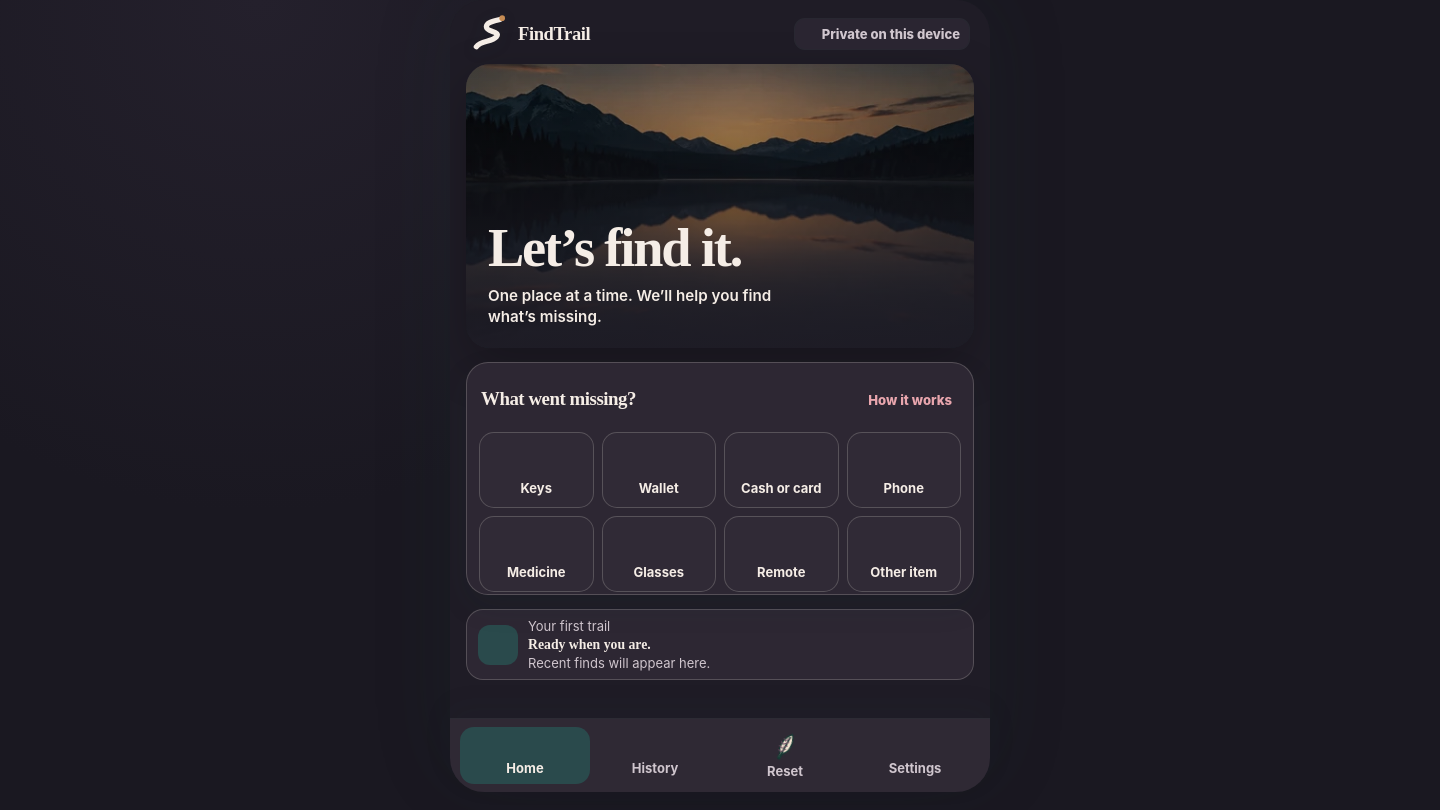
Test case: FindTrail app › accepts a custom item name
Click the button "Other item" at (904, 554), box [846,516,961,592]
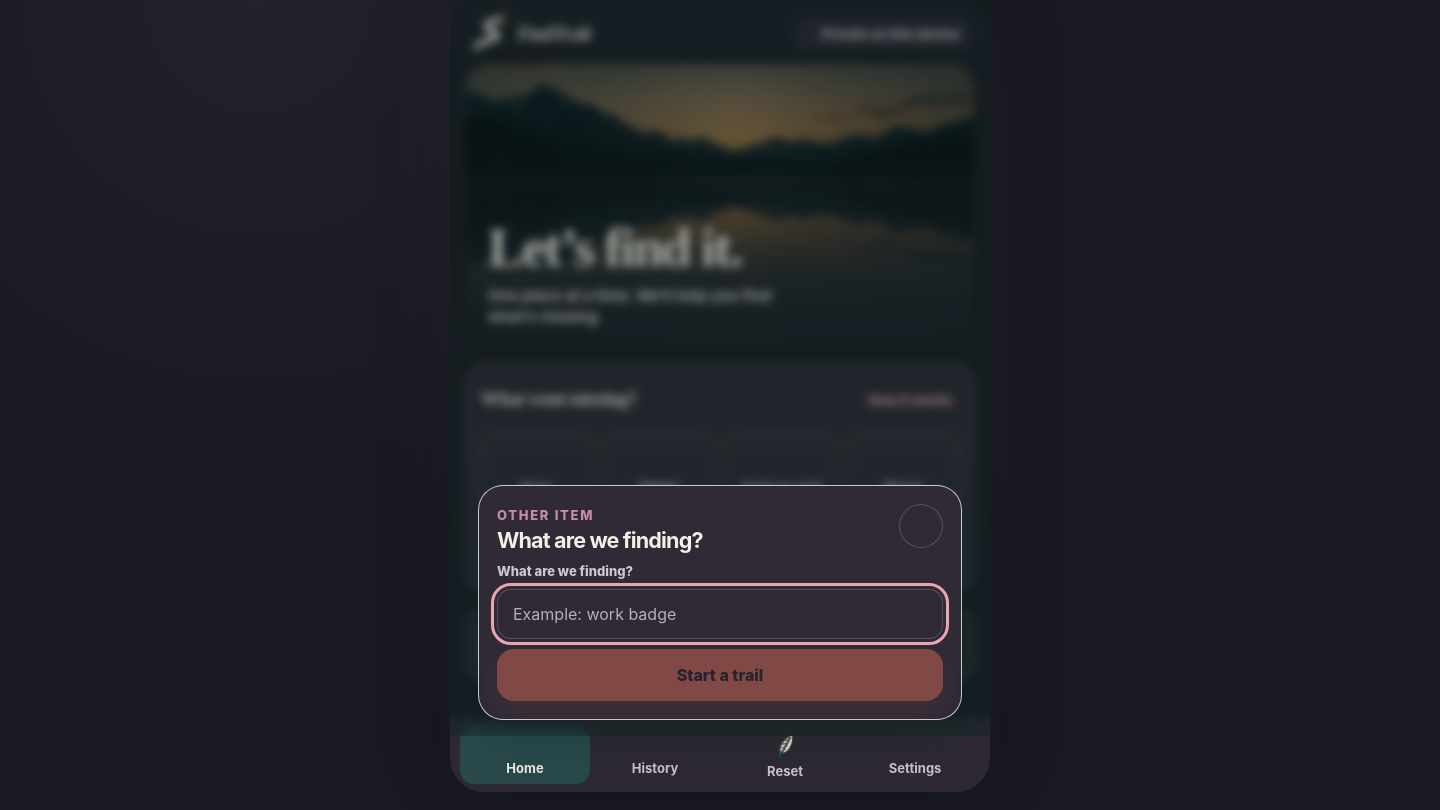
Type "Work badge" into the field labelled "What are we finding?" at (720, 614), box [497,589,943,639]
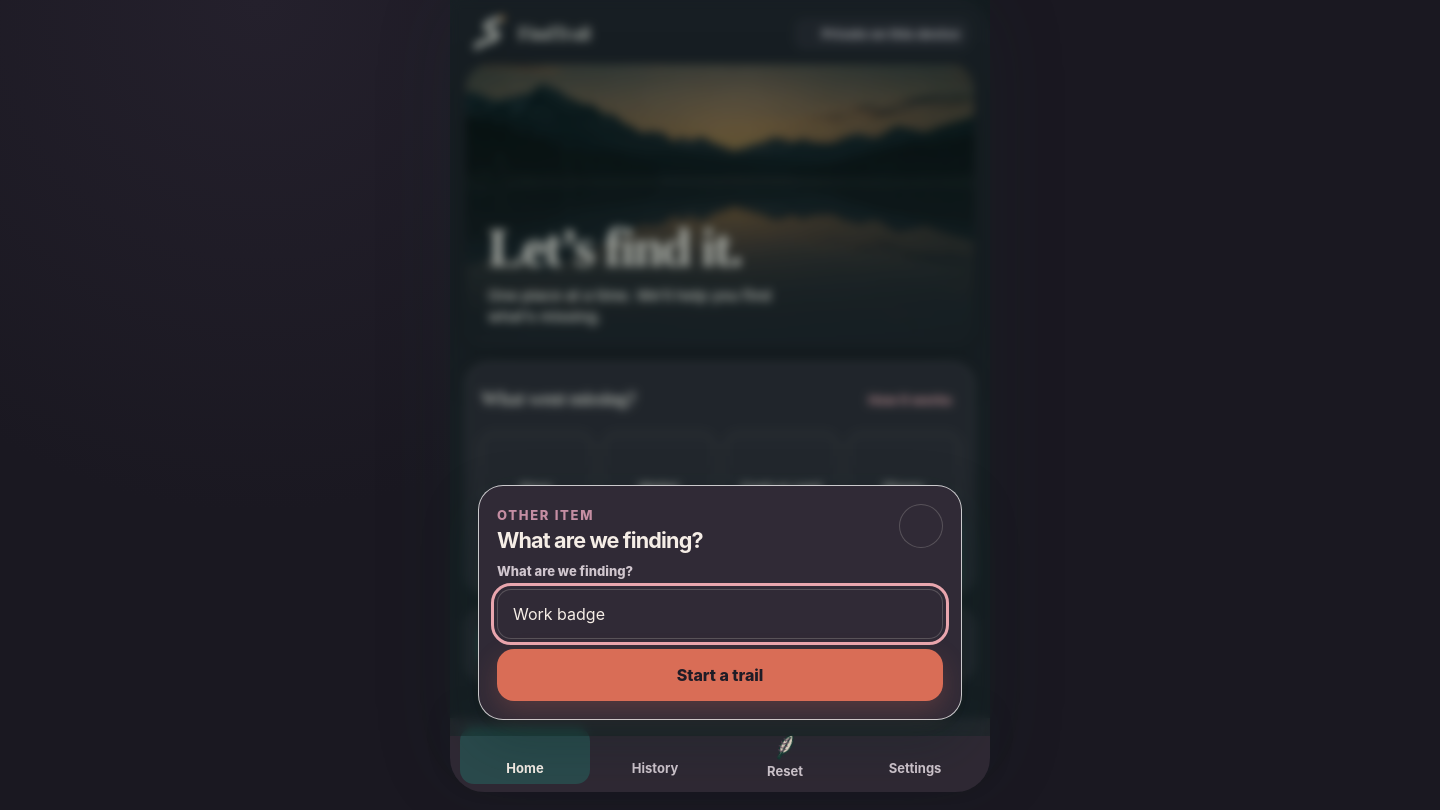
Click the button "Start a trail" at (720, 675), box [497,649,943,701]
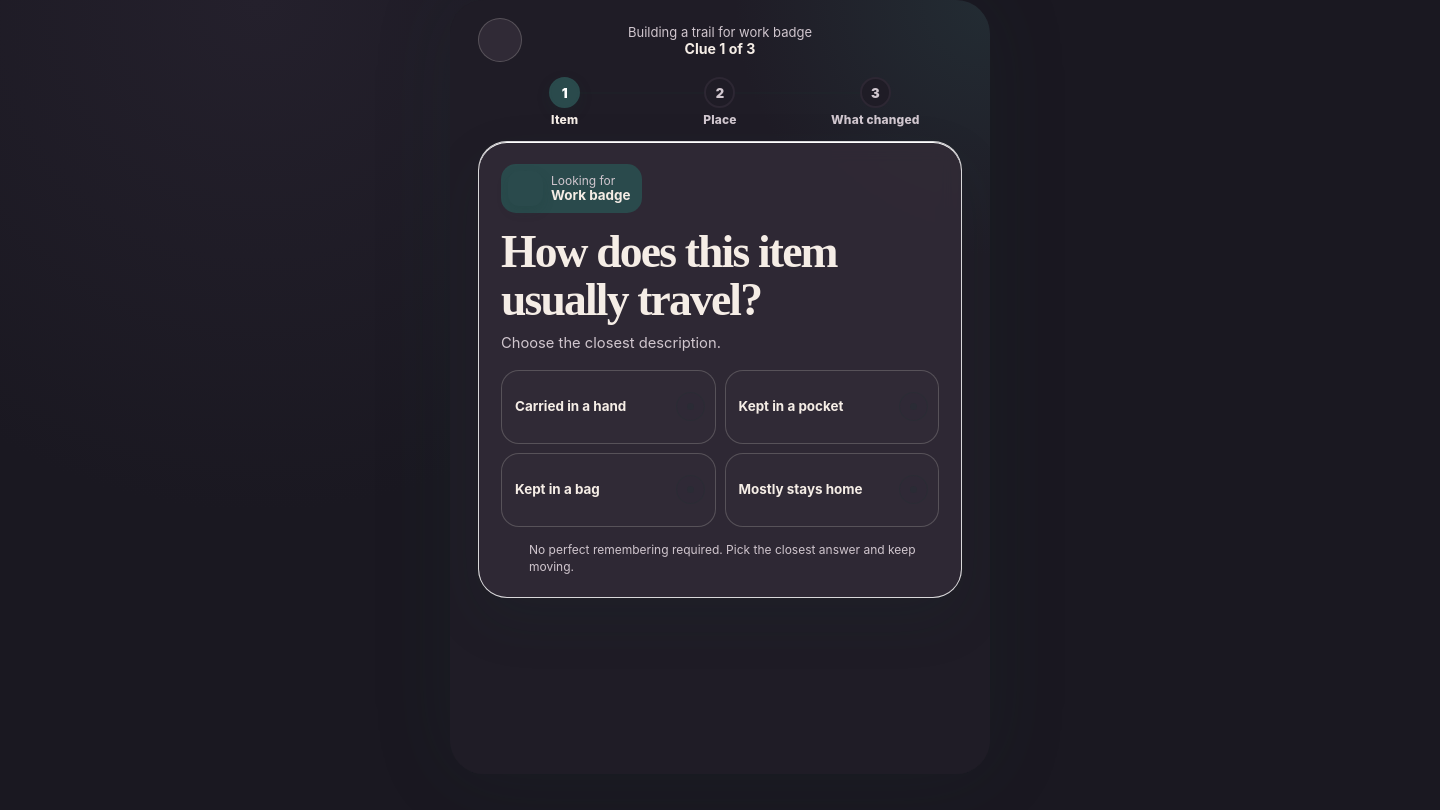
Expected: the text "Work badge" is shown, [551,188,630,203]
Expected: the heading "How does this item usually travel?" is shown, [501,226,837,325]
